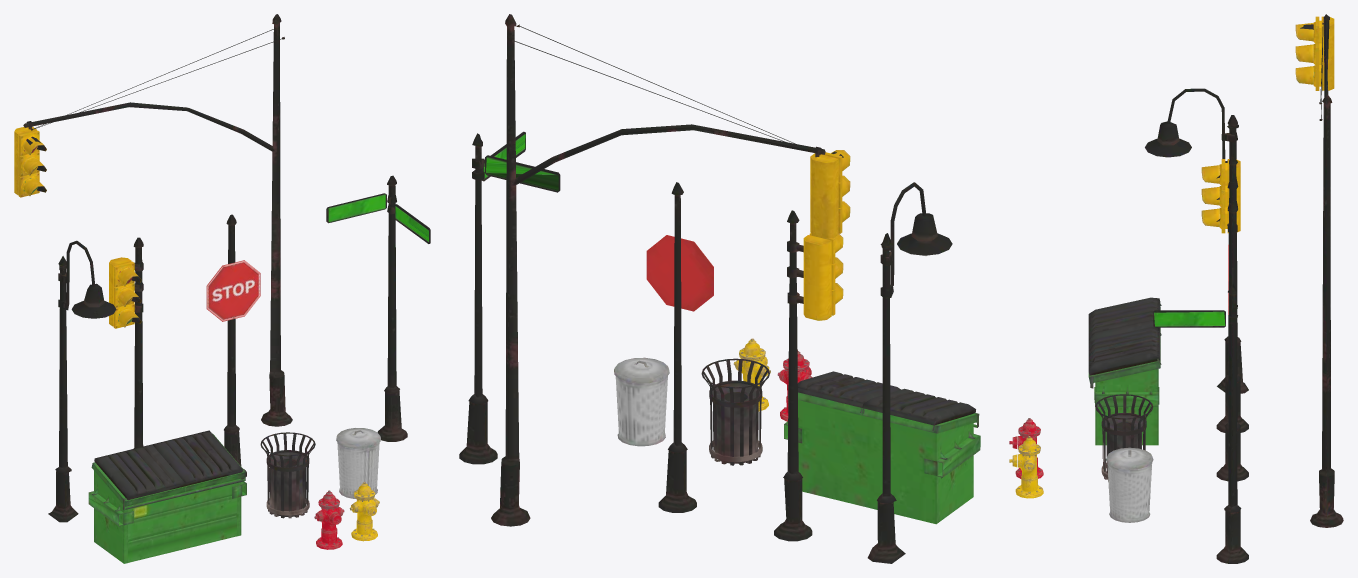
Rendered from p_city.glb.
The picture shows the model from 3 angles, left to right: view 1: azimuth 30°, elevation 25°; view 2: azimuth 150°, elevation 25°; view 3: azimuth 270°, elevation 25°; orthographic projection. The views are drawn at different scales.
Visible parts, largest first — view 1: metal street props low poly.006, metal street props low poly, metal street props low poly.008, metal street props low poly.005, metal street props low poly.012, metal street props low poly.011, metal street props low poly.001, metal street props low poly.007, metal street props low poly.002, metal street props low poly.003; view 2: metal street props low poly.006, metal street props low poly, metal street props low poly.011, metal street props low poly.005, metal street props low poly.012, metal street props low poly.008, metal street props low poly.001, metal street props low poly.007, metal street props low poly.003, metal street props low poly.002; view 3: metal street props low poly.006, metal street props low poly, metal street props low poly.008, metal street props low poly.007, metal street props low poly.011, metal street props low poly.012, metal street props low poly.001, metal street props low poly.005, metal street props low poly.003, metal street props low poly.002.
Part boxes in pixels (box(x1,y1,x2,y2)): metal street props low poly.006: box(88, 430, 246, 563); metal street props low poly: box(14, 14, 292, 426); metal street props low poly.008: box(326, 175, 430, 441); metal street props low poly.005: box(206, 214, 260, 479); metal street props low poly.012: box(48, 240, 116, 522); metal street props low poly.011: box(109, 237, 143, 448); metal street props low poly.001: box(260, 432, 315, 518); metal street props low poly.007: box(336, 428, 380, 498); metal street props low poly.002: box(314, 490, 344, 549); metal street props low poly.003: box(349, 482, 379, 541); metal street props low poly.006: box(784, 371, 980, 524); metal street props low poly: box(491, 14, 850, 526); metal street props low poly.011: box(774, 210, 843, 541); metal street props low poly.005: box(646, 182, 713, 512); metal street props low poly.012: box(867, 182, 952, 563); metal street props low poly.008: box(459, 131, 560, 464); metal street props low poly.001: box(701, 358, 769, 465); metal street props low poly.007: box(614, 357, 669, 446); metal street props low poly.003: box(733, 338, 770, 411); metal street props low poly.002: box(777, 349, 812, 421); metal street props low poly.006: box(1088, 297, 1161, 445); metal street props low poly: box(1295, 14, 1343, 527); metal street props low poly.008: box(1153, 267, 1248, 563); metal street props low poly.007: box(1106, 447, 1153, 522); metal street props low poly.011: box(1201, 153, 1248, 432); metal street props low poly.012: box(1145, 88, 1248, 393); metal street props low poly.001: box(1095, 394, 1153, 481); metal street props low poly.005: box(1216, 201, 1248, 481); metal street props low poly.003: box(1009, 436, 1043, 498); metal street props low poly.002: box(1009, 418, 1043, 478).
Size of the model in its own units: 5.18 by 5.55 by 3.94.
1 material, 1 textured.
